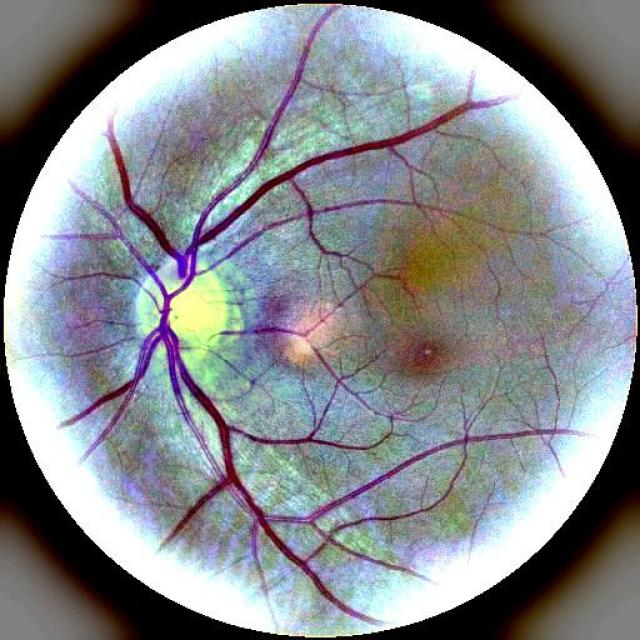Macula: (401, 336, 459, 381)
Nerves: (65, 5, 512, 619), (221, 312, 331, 341), (71, 185, 120, 232)
Optic Disk: (142, 257, 239, 364)
